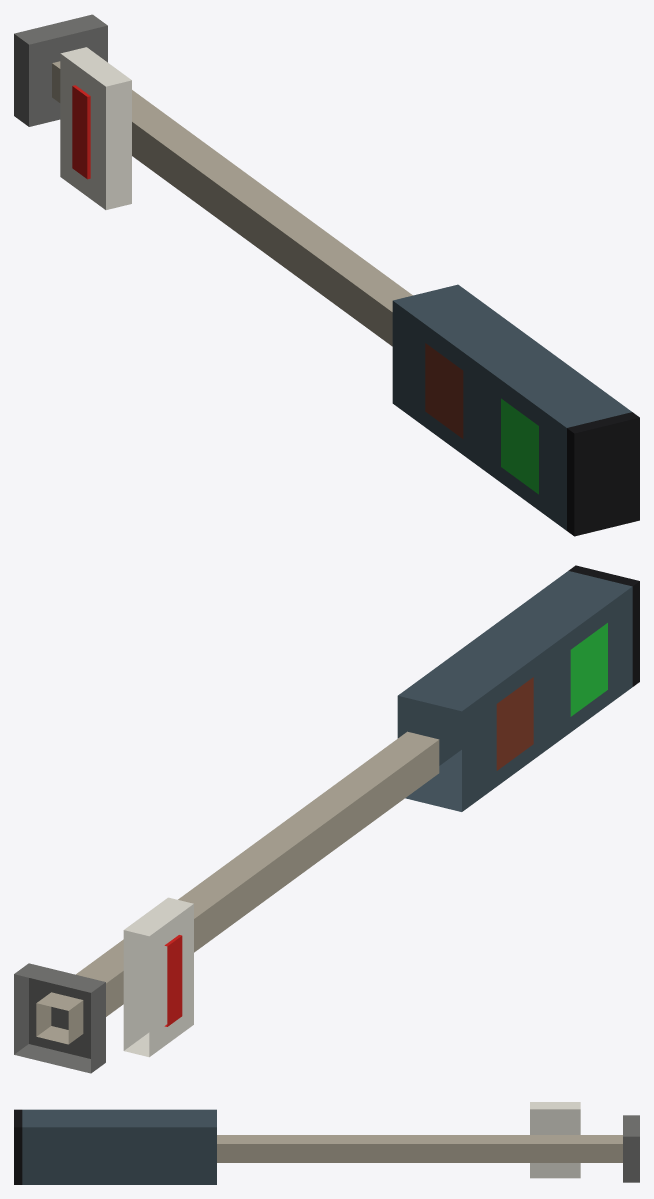
File: green.glb
3 views of the same model, one above another, from view 1: azimuth 30°, elevation 25°; view 2: azimuth 150°, elevation 25°; view 3: azimuth 270°, elevation 25° (orthographic). The views are drawn at different scales.
Parts seen in each view (by area): view 1: signal_electric_path_oneway_green; view 2: signal_electric_path_oneway_green; view 3: signal_electric_path_oneway_green.
Part boxes in pixels (x1,y1,x2,y2): signal_electric_path_oneway_green: (14, 14, 639, 536); signal_electric_path_oneway_green: (14, 565, 639, 1073); signal_electric_path_oneway_green: (14, 1102, 639, 1184).
Size of the model in its own units: 1.35 by 1.8 by 14.8.
